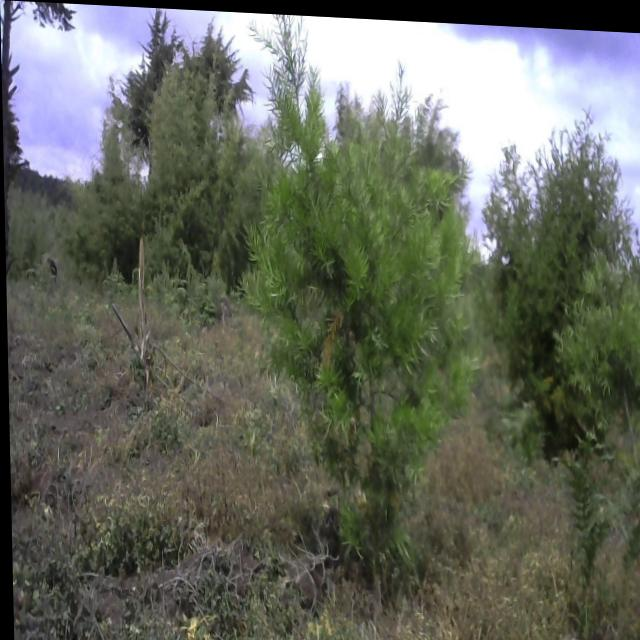Podocarpus falcatus: (245, 15, 484, 577), (568, 238, 640, 480)
cedrus: (495, 120, 632, 430), (122, 5, 182, 142), (185, 12, 248, 142)
other: (127, 50, 224, 286), (65, 106, 147, 278)
